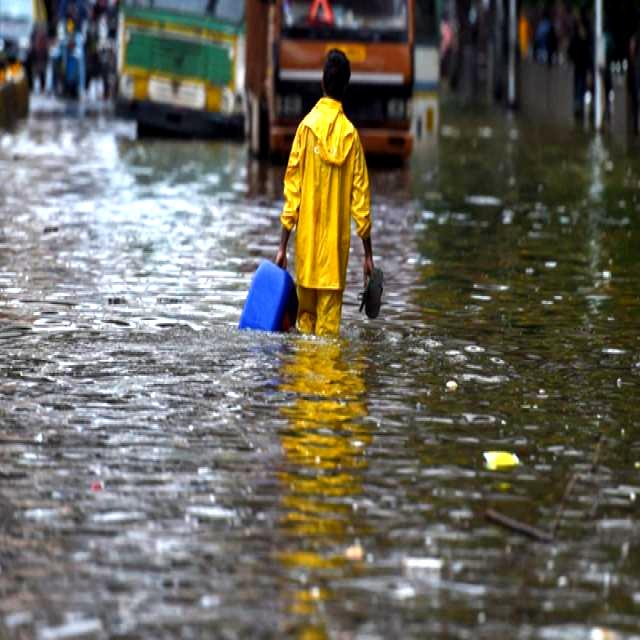civilian: (232, 38, 400, 348)
